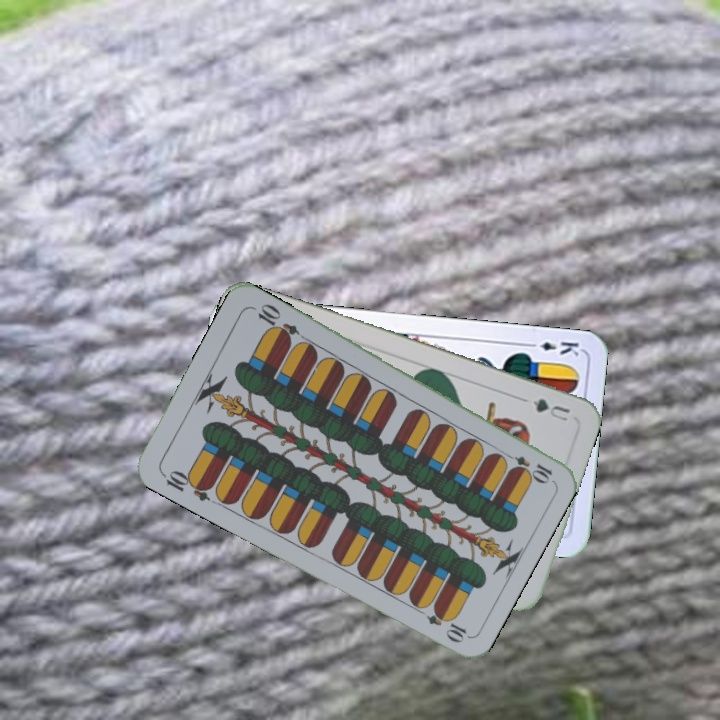E10: (157, 466, 215, 504), (498, 448, 555, 484)
EK: (523, 337, 582, 359)
GU: (519, 394, 573, 424)
